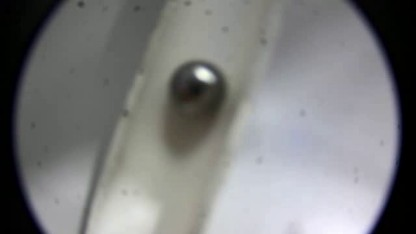gangzhu: (169, 54, 228, 115)
